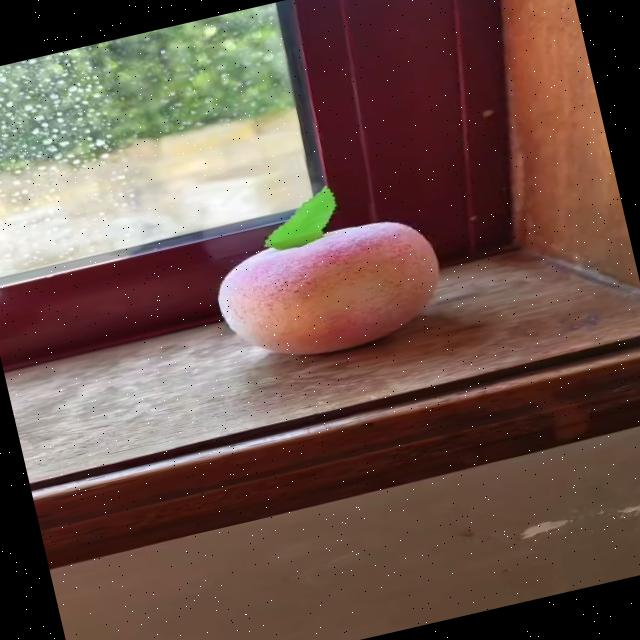peach: (219, 187, 439, 353)
